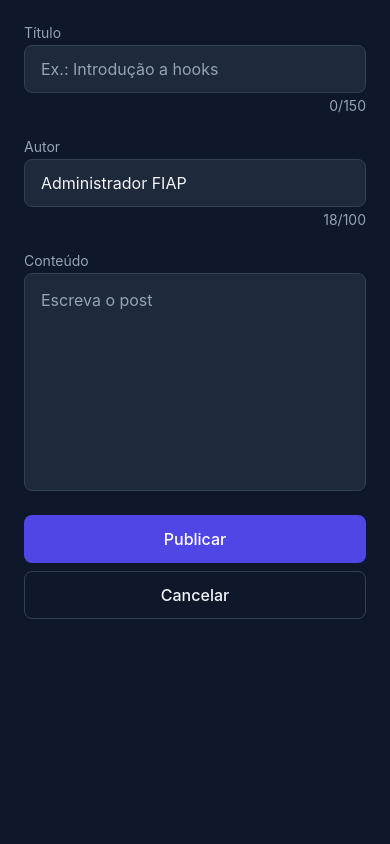
Test: criação › mostra o erro da API e permanece no formulário
Step 1. Type "Título novo" into the field named "Título" → (195, 69), box top-left (24, 45), bottom-right (366, 93)
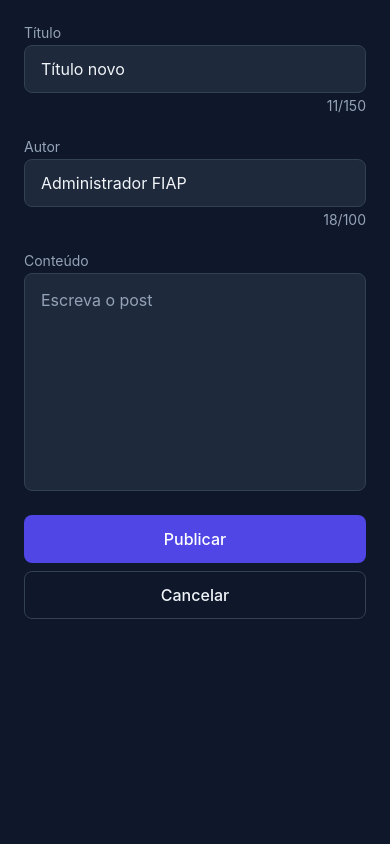
Step 2. Type "Conteúdo novo" into the text box named "Conteúdo" → (195, 382), box top-left (24, 273), bottom-right (366, 491)
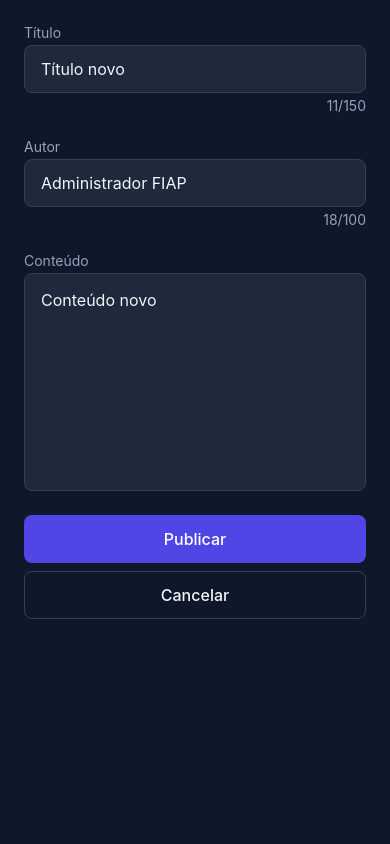
Step 3. Click the button "Publicar" → (195, 539), box top-left (24, 515), bottom-right (366, 563)
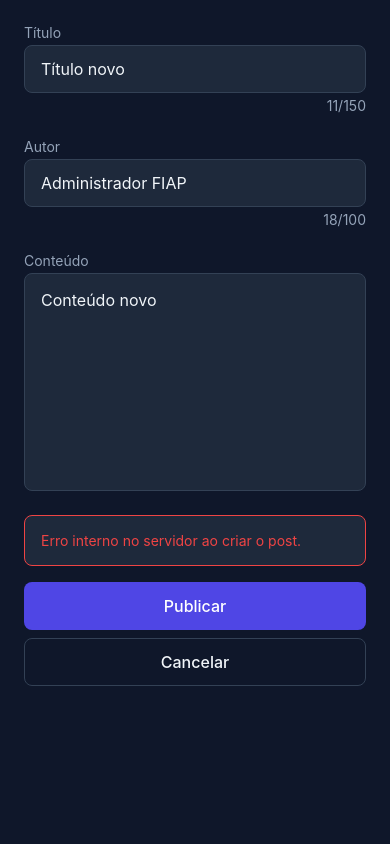
Check: the text "Erro interno no servidor ao criar o post." is shown, box top-left (41, 532), bottom-right (301, 549)
